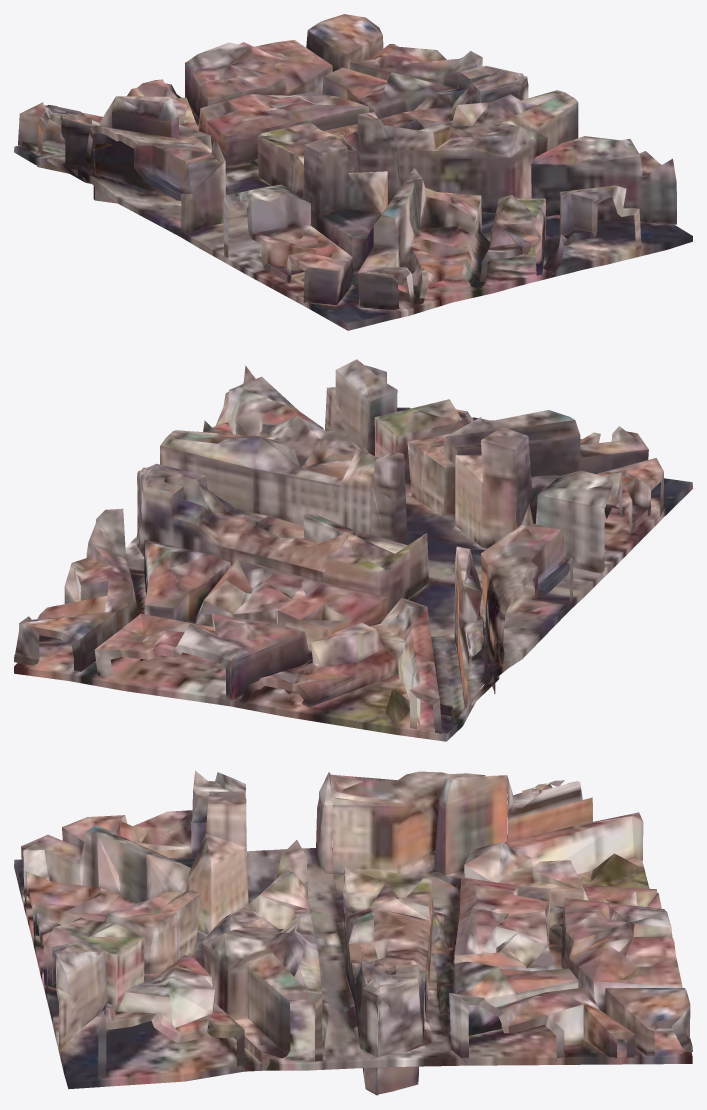
The picture shows the model from 3 angles, top to bottom: view 1: azimuth 30°, elevation 25°; view 2: azimuth 150°, elevation 25°; view 3: azimuth 270°, elevation 25°; orthographic projection. The views are drawn at different scales.
Visible parts, largest first — view 1: Mesh_0; view 2: Mesh_0; view 3: Mesh_0.
Part boxes in pixels (box(x1,y1,x2,y2)): Mesh_0: box(14, 14, 692, 330); Mesh_0: box(14, 359, 692, 741); Mesh_0: box(14, 770, 692, 1095).
Bounding box in the file's own units: 266 × 82.99 × 330.
1 material, 1 textured.
